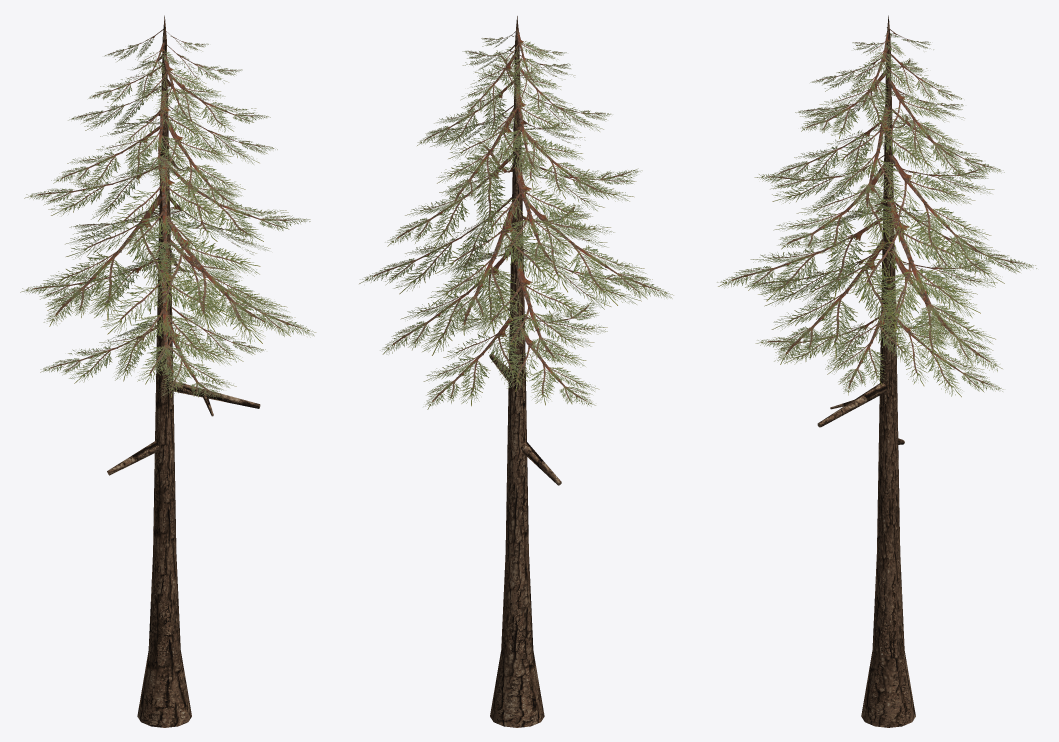
The model's file is SM_FOL_Pine_Tree_02_A.fbx.
3 views of the same model, side by side, from view 1: azimuth 30°, elevation 25°; view 2: azimuth 150°, elevation 25°; view 3: azimuth 270°, elevation 25° (orthographic).
Visible parts, largest first — view 1: SM_FOL_Pine_Tree_02_A; view 2: SM_FOL_Pine_Tree_02_A; view 3: SM_FOL_Pine_Tree_02_A.
Part boxes in pixels (x1,y1,x2,y2): SM_FOL_Pine_Tree_02_A: (20, 15, 316, 727); SM_FOL_Pine_Tree_02_A: (359, 16, 673, 727); SM_FOL_Pine_Tree_02_A: (717, 15, 1036, 727).
Size of the model in its own units: 358 by 881 by 382.
Materials: 2 (2 with a texture image).
